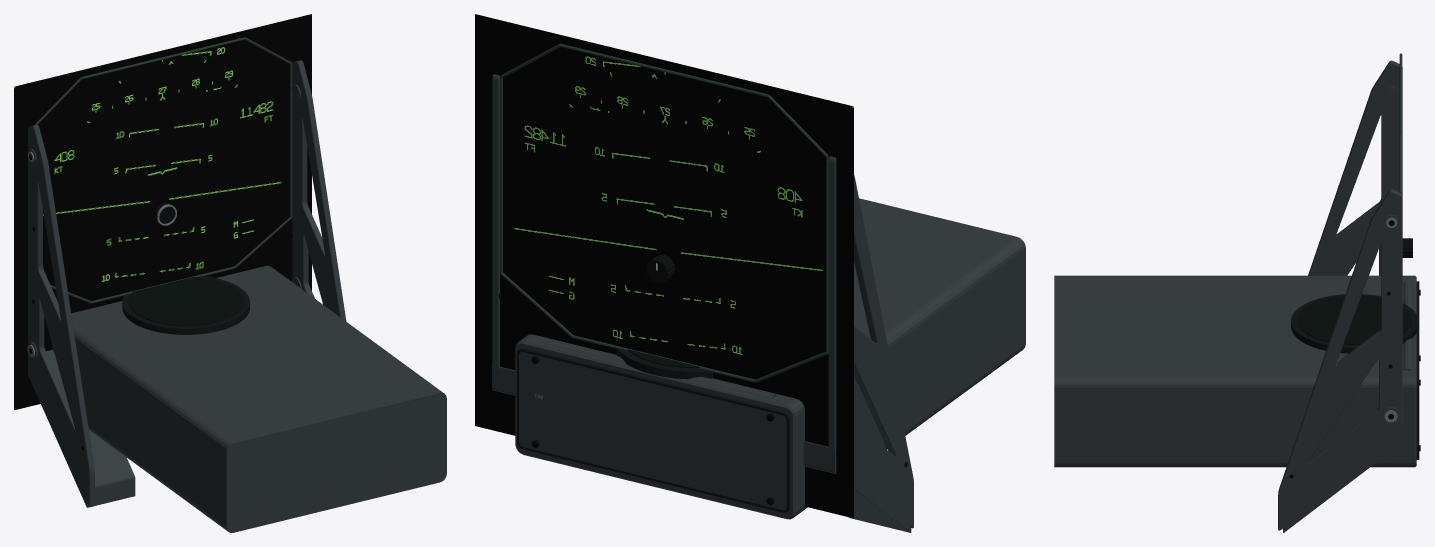
Rendered from MFDStudio.obj.
3 renders of one model, left to right at view 1: azimuth 30°, elevation 25°; view 2: azimuth 150°, elevation 25°; view 3: azimuth 270°, elevation 25°, orthographic. The views are drawn at different scales.
Visible parts, largest first — view 1: MFDStudioBody, MFDStudioScreen, MFDStudioCombinerFrame; view 2: MFDStudioScreen, MFDStudioBody, MFDStudioCombinerFrame, MFDStudioKnob0; view 3: MFDStudioBody, MFDStudioCombinerFrame.
Boxes of the visible parts, x1,y1,x2,y2 form: MFDStudioBody: [52, 265, 446, 532]; MFDStudioScreen: [14, 14, 311, 410]; MFDStudioCombinerFrame: [27, 37, 346, 507]; MFDStudioScreen: [475, 14, 853, 518]; MFDStudioBody: [515, 198, 1025, 519]; MFDStudioCombinerFrame: [492, 43, 913, 532]; MFDStudioKnob0: [646, 254, 675, 283]; MFDStudioBody: [1054, 275, 1419, 467]; MFDStudioCombinerFrame: [1278, 53, 1402, 532].
Size of the model in its own units: 0.26 by 0.3182 by 0.2777.
11 materials, 1 textured.
